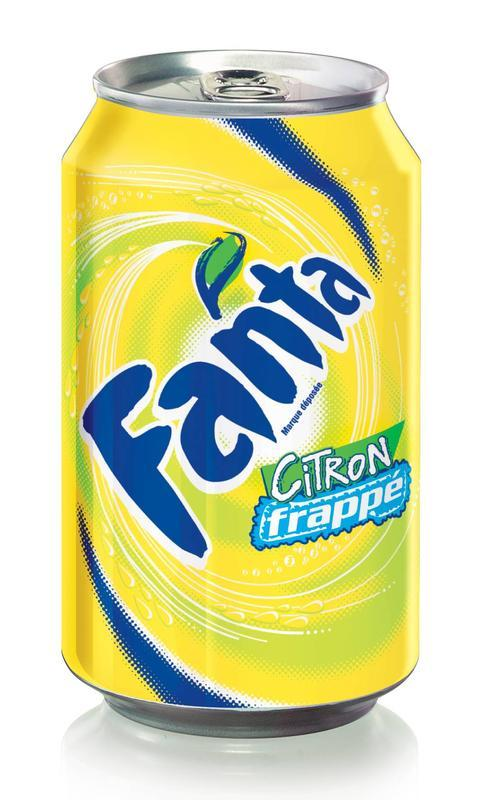metal: (61, 49, 420, 738)
